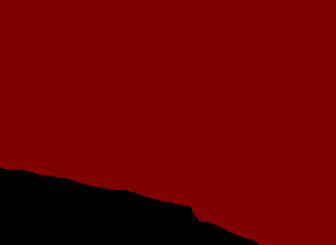Sky: (1, 1, 335, 244)
